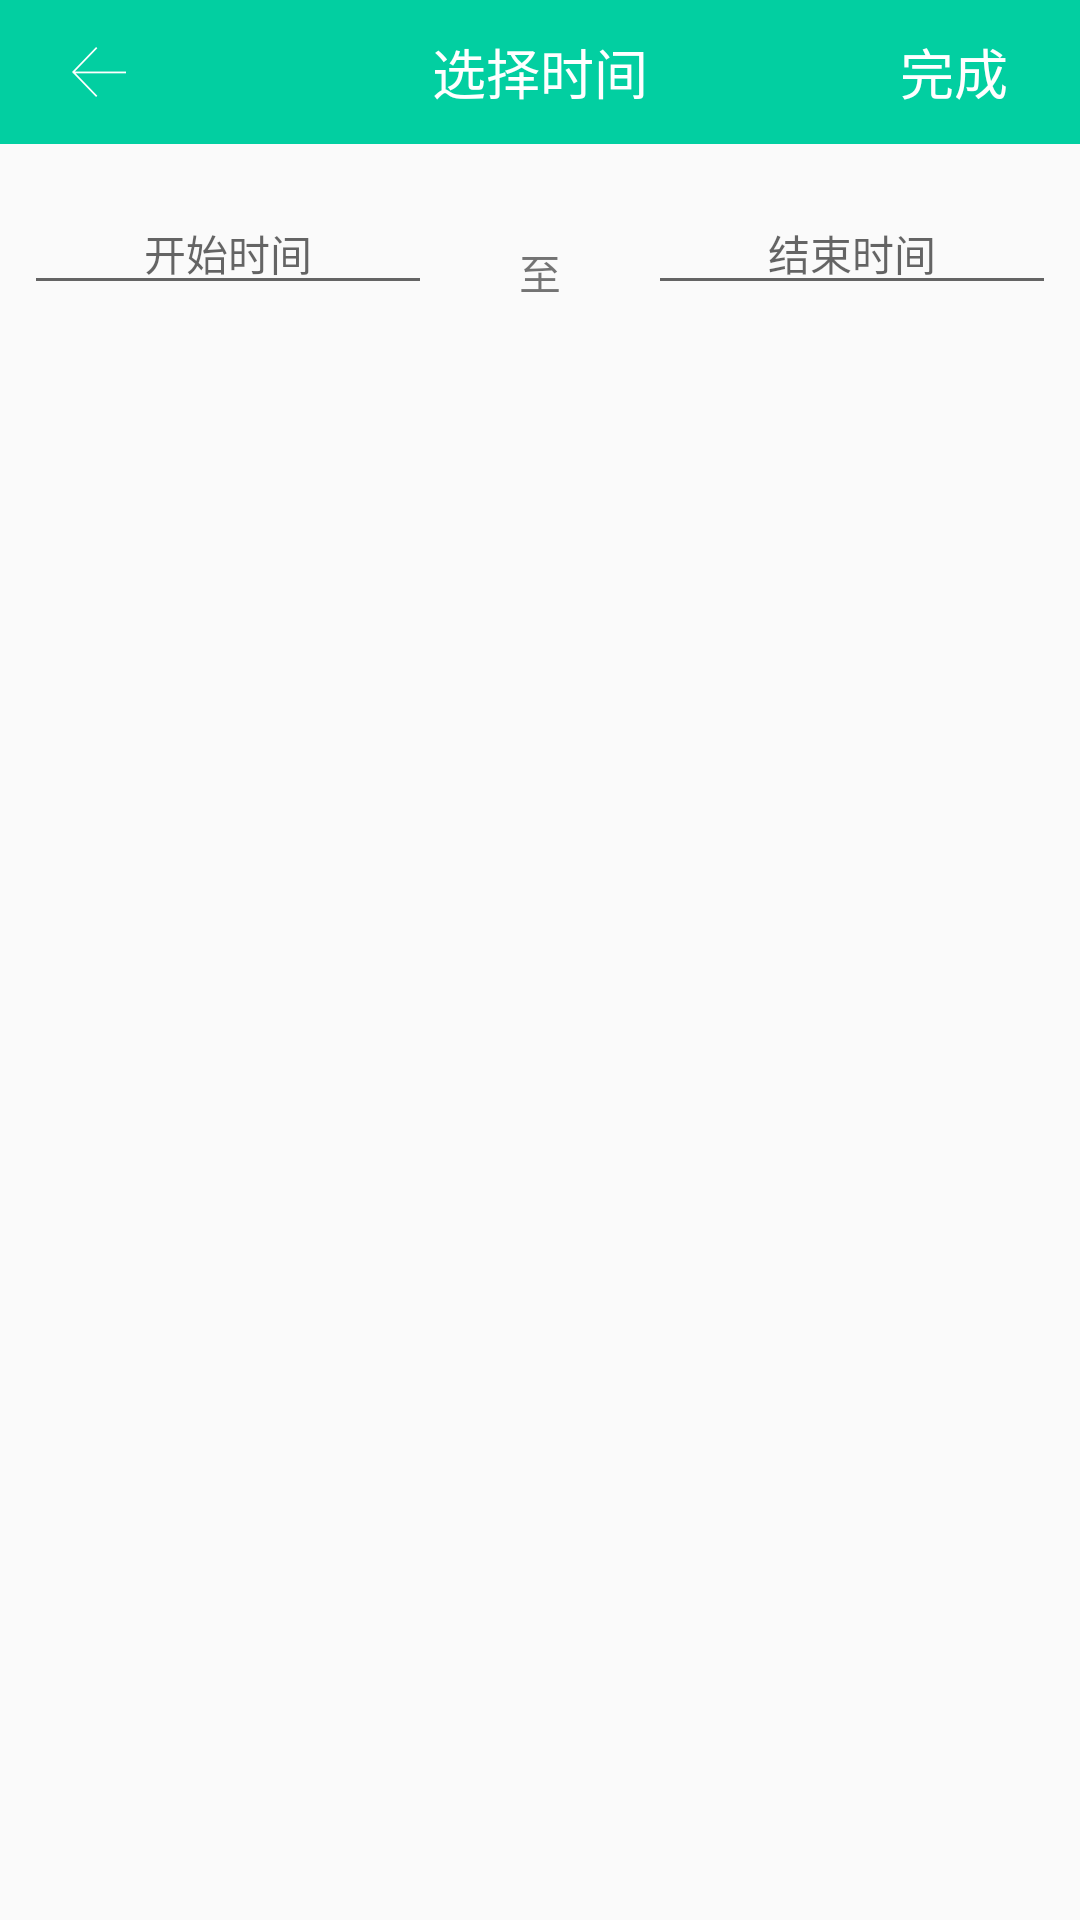

Icons on this 1080x1920 Android screen, each with its box as [left=x1, top=y1, right=x2, bottom=y2]:
back: [left=72, top=47, right=126, bottom=97]
